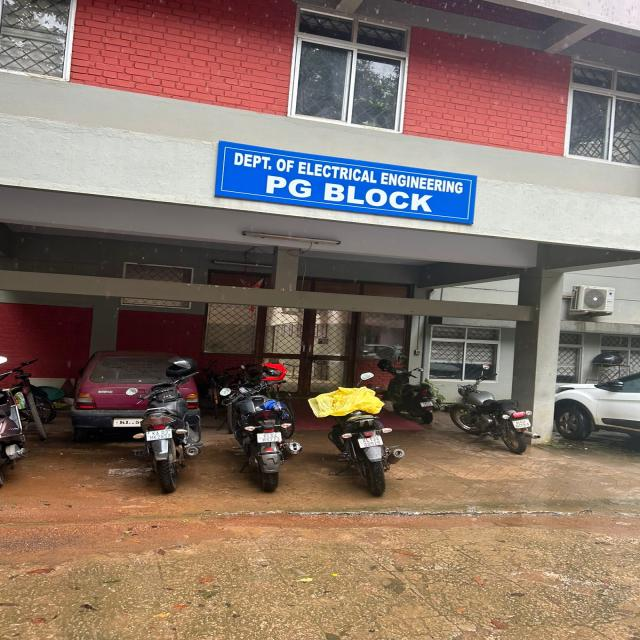motorcycle ahead at: (310, 359, 411, 488), (124, 374, 206, 486), (441, 379, 546, 452), (225, 381, 288, 500)
pillar ahead at: (518, 273, 562, 451)
